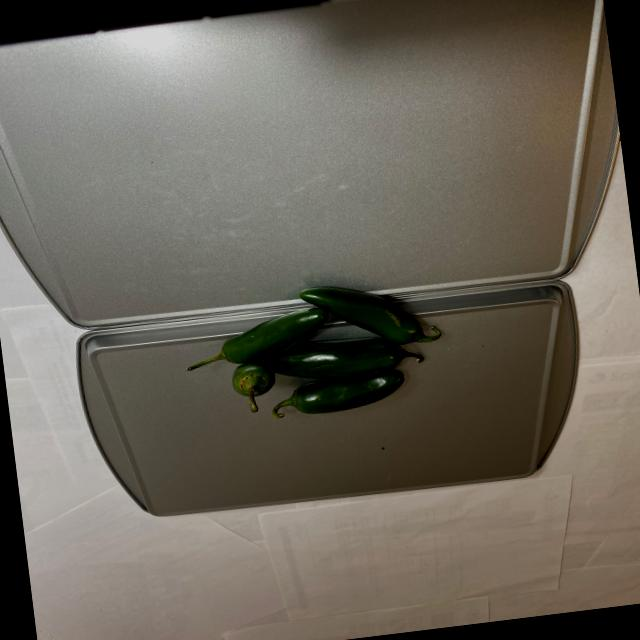chilli: (190, 270, 456, 428)
